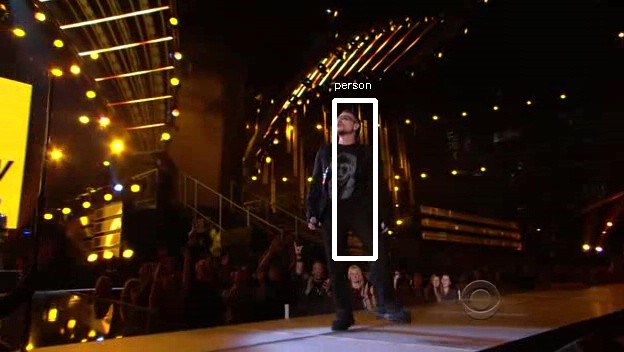person: (309, 115, 380, 233), (306, 115, 377, 233), (312, 115, 383, 233), (309, 112, 380, 230), (309, 118, 380, 236)
target_negative: (351, 258, 491, 331), (590, 175, 619, 340), (336, 258, 390, 314), (209, 248, 584, 249), (325, 249, 334, 269), (155, 348, 206, 351)
